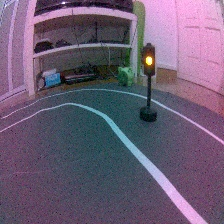amber: (139, 41, 160, 124)
